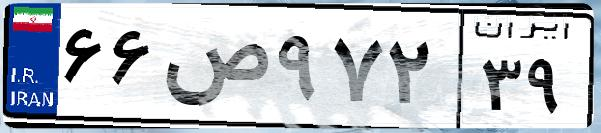2: (385, 28, 445, 110)
3: (475, 38, 525, 113)
6: (57, 26, 110, 100), (110, 28, 158, 98)
7: (330, 28, 385, 110)
9: (270, 28, 330, 110), (525, 38, 570, 115)
ص: (158, 20, 270, 120)
